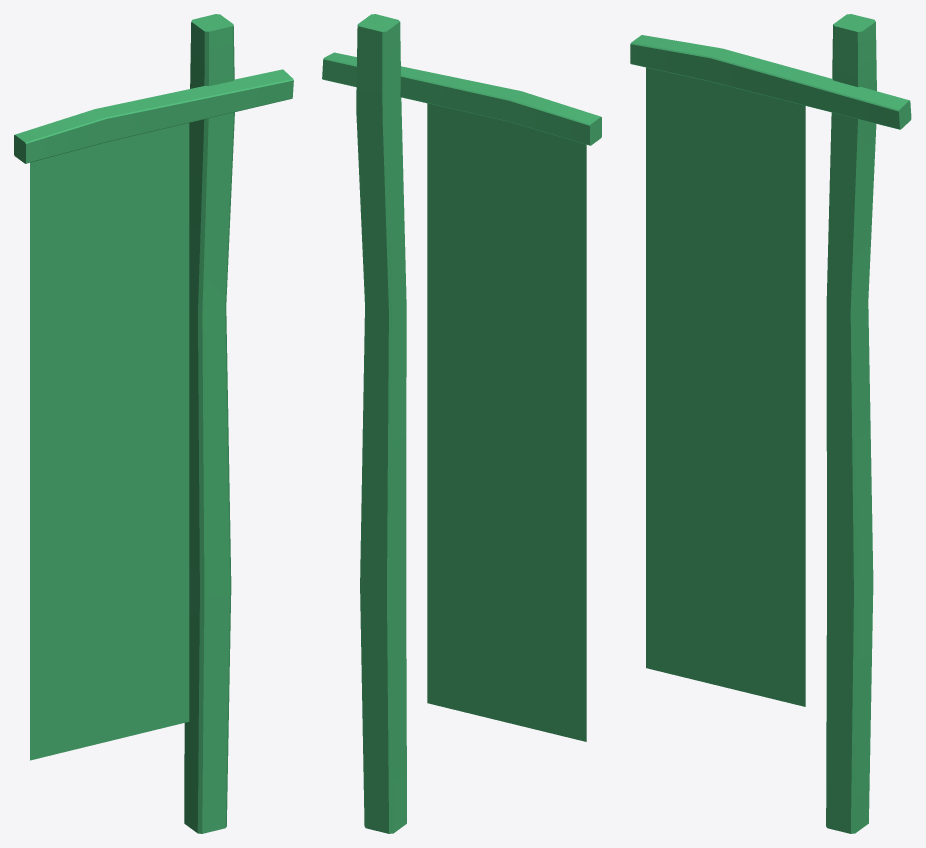
The model's file is Flag_01.fbx.
3 views of the same model, side by side, from view 1: azimuth 30°, elevation 25°; view 2: azimuth 150°, elevation 25°; view 3: azimuth 330°, elevation 25° (orthographic).
Visible parts, largest first — view 1: flag; view 2: flag; view 3: flag.
Boxes of the visible parts, bbox=[...] form: flag: bbox=[14, 14, 293, 833]; flag: bbox=[322, 14, 601, 833]; flag: bbox=[630, 14, 911, 833].
Size of the model in its own units: 1.46 by 4.16 by 0.261.
